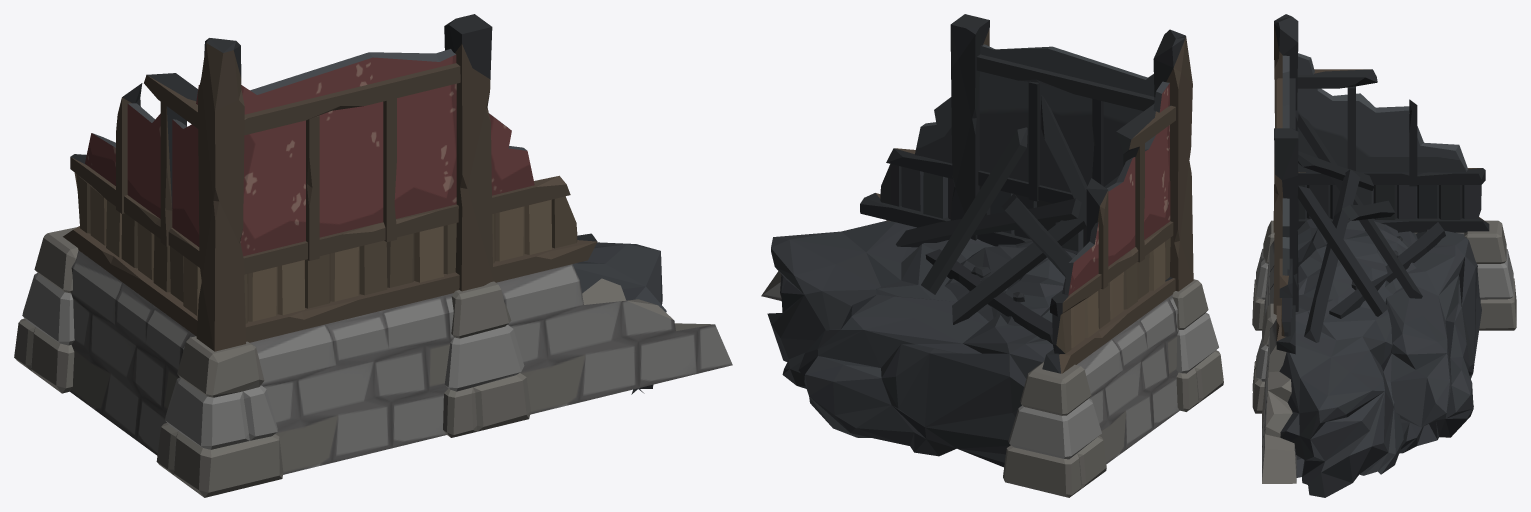
File: SM_Prop_Destroyed_House_Piece_01_Burnt.fbx
3 renders of one model, left to right at view 1: azimuth 30°, elevation 25°; view 2: azimuth 150°, elevation 25°; view 3: azimuth 270°, elevation 25°, orthographic. The views are drawn at different scales.
Visible parts, largest first — view 1: SM_Prop_Destroyed_House_Piece_01_Burnt; view 2: SM_Prop_Destroyed_House_Piece_01_Burnt; view 3: SM_Prop_Destroyed_House_Piece_01_Burnt.
Part boxes in pixels (<box>): SM_Prop_Destroyed_House_Piece_01_Burnt: <box>14,14,732,497</box>; SM_Prop_Destroyed_House_Piece_01_Burnt: <box>761,14,1223,497</box>; SM_Prop_Destroyed_House_Piece_01_Burnt: <box>1252,14,1516,497</box>.
Bounding box in the file's own units: 543 × 463 × 336.
1 material, 1 textured.
